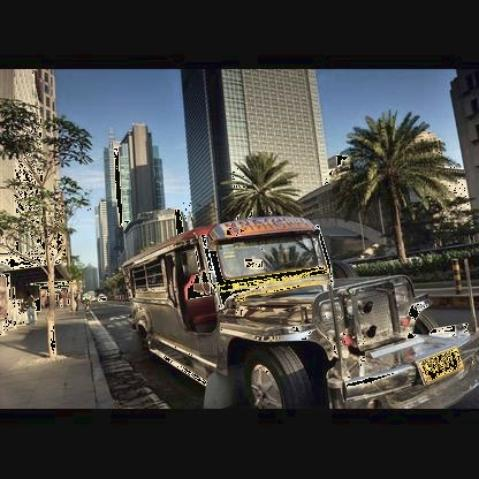jeepney: (111, 219, 479, 405)
